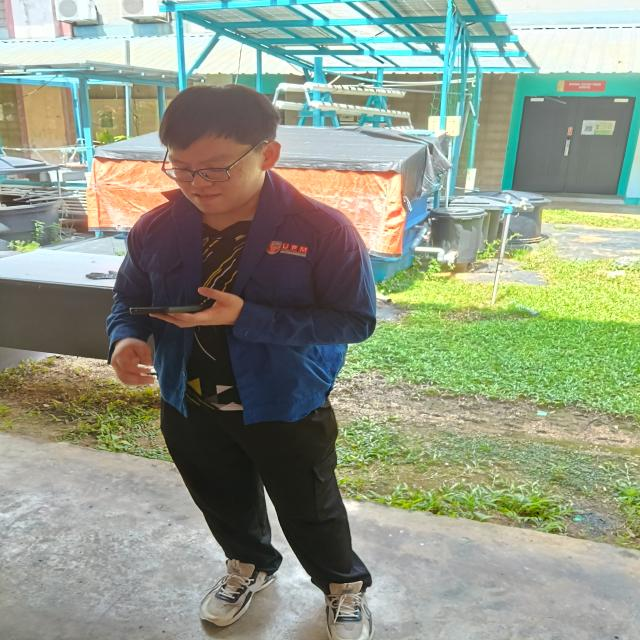person_with_labcoat: (107, 85, 376, 640)
